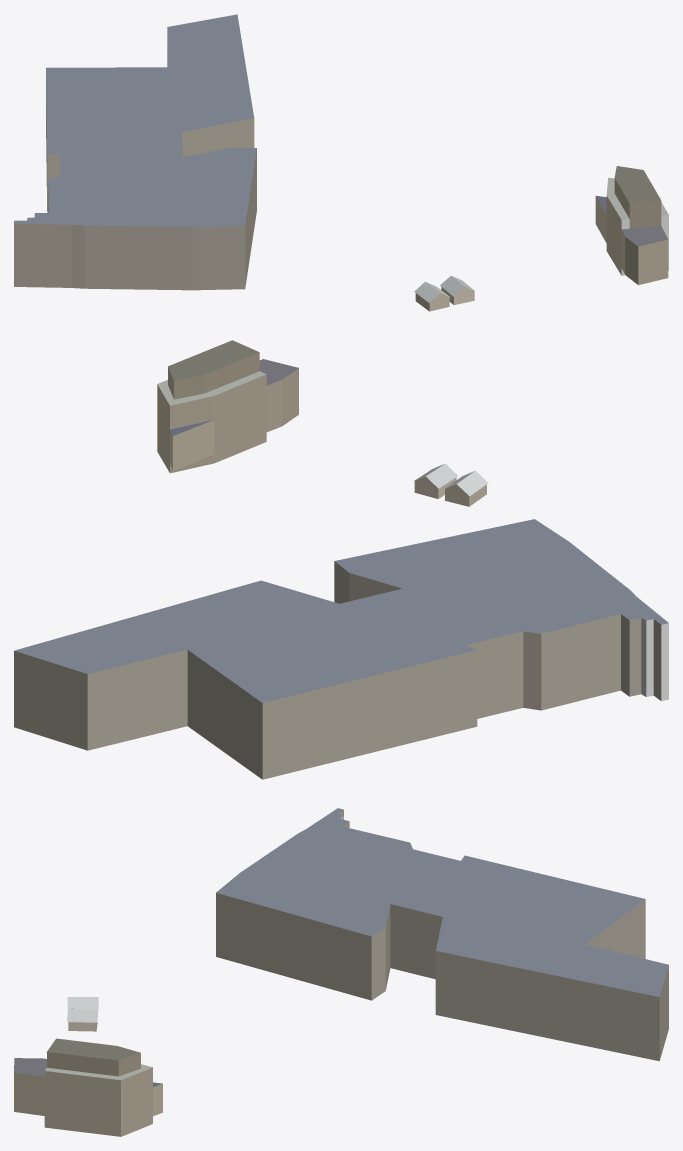
3 views of the same model, one above another, from view 1: azimuth 30°, elevation 25°; view 2: azimuth 150°, elevation 25°; view 3: azimuth 270°, elevation 25° (orthographic). The views are drawn at different scales.
Parts seen in each view (by area): view 1: tuile; view 2: tuile; view 3: tuile.
Boxes of the visible parts, <box> form: tuile: <box>14,14,668,311</box>; tuile: <box>14,340,668,779</box>; tuile: <box>14,808,668,1136</box>.
Bounding box in the file's own units: 200 × 25.75 × 211.
